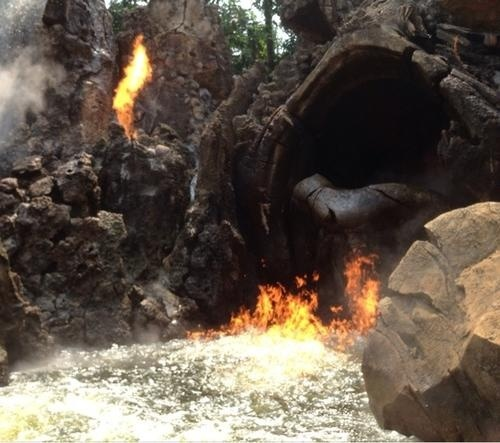fire: (191, 254, 384, 355), (111, 31, 153, 138)
